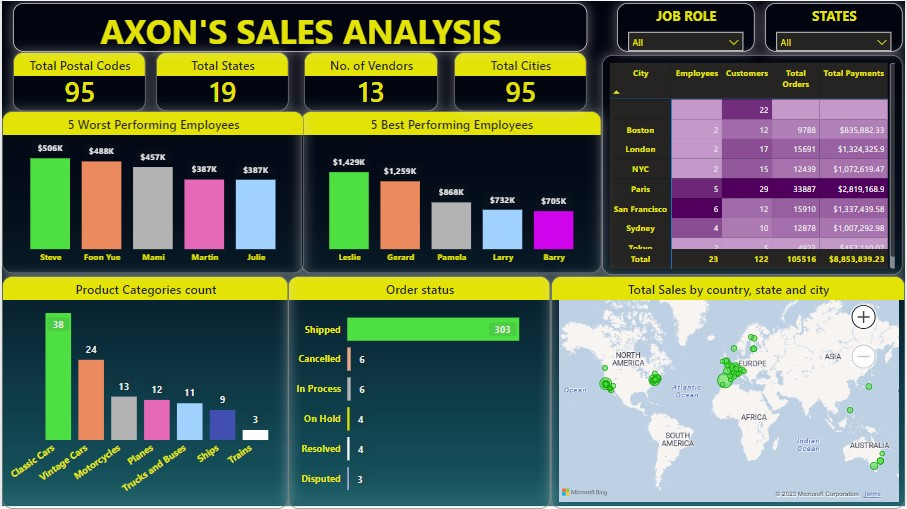

What the dashboard file says about the page in this screenshot:
{"tool":"powerbi","page":{"name":"Dashboard 3","canvas":[1280,720],"ordinal":2},"visuals":[{"type":"clusteredBarChart","title":"Order status","fields":{"Category":["Orders.status"],"Y":["Orders.orderNumber"]},"box":[406,389.2,372.4,330.5],"z":0},{"type":"pivotTable","fields":{"Rows":["Offices.city"],"Values":["Employees.employeeNumber","Measurables.Customers","Measurables.Total Orders","Measurables.Total Payments"]},"box":[850.5,77.2,426.1,312],"z":1000},{"type":"columnChart","title":"Product Categories count","fields":{"Category":["Products.productLine"],"Y":["Products.productName"]},"box":[0,389.2,406,330.5],"z":2000},{"type":"card","title":"No. of Vendors","fields":{"Values":["Products.productVendor"]},"box":[427.8,72.1,189.6,83.9],"z":3000},{"type":"card","title":"Total Postal Codes","fields":{"Values":["Customers.postalCode"]},"box":[15.1,72.1,187.9,83.9],"z":4000},{"type":"card","title":"Total States","fields":{"Values":["Customers.state"]},"box":[218.1,72.1,187.9,83.9],"z":5000},{"type":"map","fields":{"Category":["Customers.country","Customers.state","Customers.city","Customers.postalCode"],"Size":["Measurables.Total Sales"]},"box":[778.4,389.2,501.6,330.5],"z":6000},{"type":"columnChart","title":"5 Best Performing Employees","fields":{"Y":["Measurables.Total Sales"],"Category":["Employees.firstName"]},"box":[424.4,156,426.1,229.8],"z":7000},{"type":"columnChart","title":"5 Worst Performing Employees","fields":{"Category":["Employees.firstName"],"Y":["Measurables.Total Sales"]},"box":[0,156,427.8,229.8],"z":8000},{"type":"card","title":"Total Cities","fields":{"Values":["Customers.city"]},"box":[640.8,72.1,187.9,83.9],"z":9000},{"type":"slicer","title":"STATES","fields":{"Values":["Customers.country"]},"box":[1082,3.4,194.6,68.8],"z":10000},{"type":"slicer","title":"JOB ROLE","fields":{"Values":["Employees.jobTitle"]},"box":[872.3,3.4,194.6,68.8],"z":11000},{"type":"textbox","title":"AXON''S SALES ANALYSIS","box":[15.1,3.4,813.6,68.8],"z":12000}]}

Visuals, with their boxes in screenshot pixels (x1, y1, x2, y2), scaled from the page's 1280x720 canvas onto the 907x509 screenshot:
"Order status" clusteredBarChart: (288, 275, 552, 508)
pivotTable - Offices.city x Employees.employeeNumber: (603, 55, 905, 275)
"Product Categories count" columnChart: (0, 275, 288, 508)
"No. of Vendors" card: (303, 51, 437, 110)
"Total Postal Codes" card: (11, 51, 144, 110)
"Total States" card: (155, 51, 288, 110)
map - Customers.country x Customers.state: (552, 275, 906, 508)
"5 Best Performing Employees" columnChart: (301, 110, 603, 273)
"5 Worst Performing Employees" columnChart: (0, 110, 303, 273)
"Total Cities" card: (454, 51, 587, 110)
"STATES" slicer: (767, 2, 905, 51)
"JOB ROLE" slicer: (618, 2, 756, 51)
"AXON''S SALES ANALYSIS" textbox: (11, 2, 587, 51)
